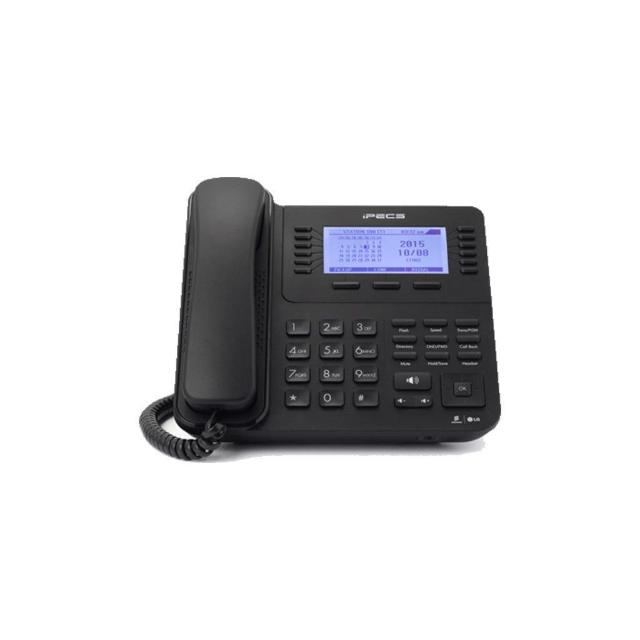Telephone-Set: (159, 157, 521, 479)
